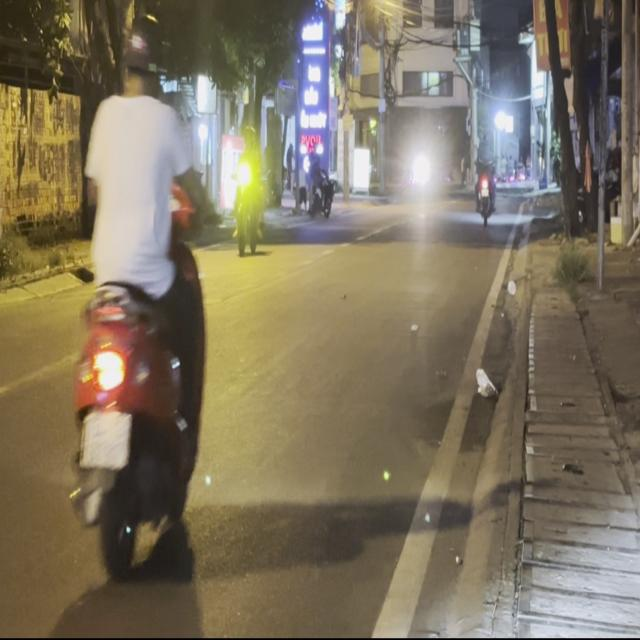helmet: (118, 11, 160, 94)
licenseplate: (61, 7, 217, 592)
nohelmet: (80, 410, 129, 466)
